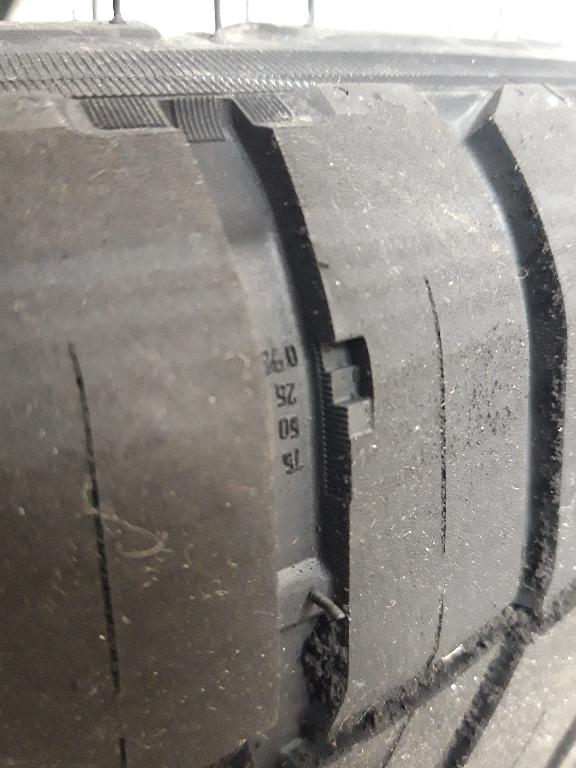temoin:50: (303, 327, 384, 452)
